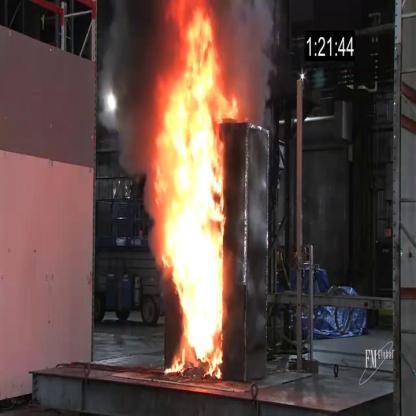fire: (152, 10, 243, 389)
